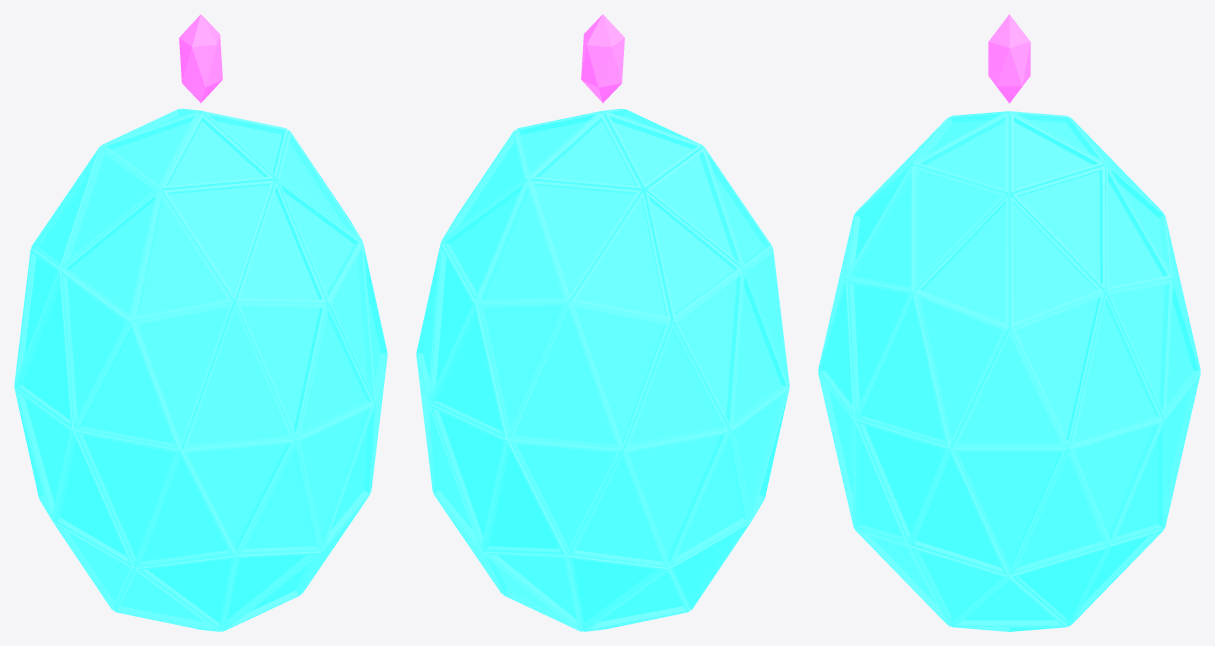
File: enemy_shield.glb
3 views of the same model, side by side, from view 1: azimuth 30°, elevation 25°; view 2: azimuth 150°, elevation 25°; view 3: azimuth 270°, elevation 25° (orthographic).
Parts seen in each view (by area): view 1: Cage, Gem; view 2: Cage, Gem; view 3: Cage, Gem.
Boxes of the visible parts, x1,y1,x2,y2 form: Cage: (14, 108, 387, 631); Gem: (179, 14, 222, 102); Cage: (416, 108, 789, 631); Gem: (581, 14, 624, 102); Cage: (818, 111, 1200, 631); Gem: (988, 14, 1030, 103).
Bounding box in the file's own units: 1.53 × 2.86 × 1.61.
